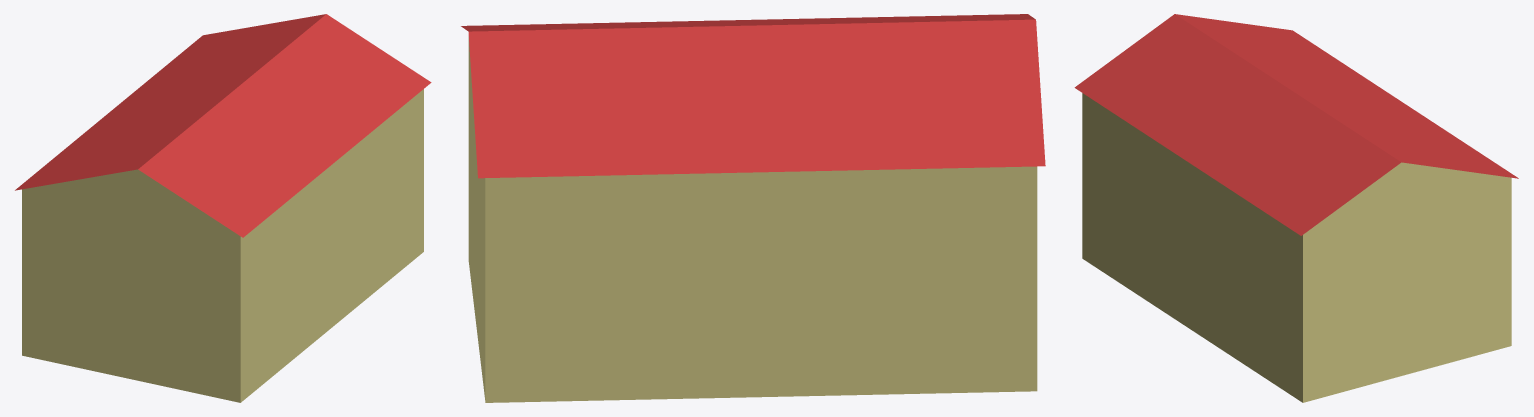
3 renders of one model, left to right at view 1: azimuth 30°, elevation 25°; view 2: azimuth 150°, elevation 25°; view 3: azimuth 270°, elevation 25°, orthographic. The views are drawn at different scales.
Size of the model in its own units: 21.32 by 19.28 by 10.35.
